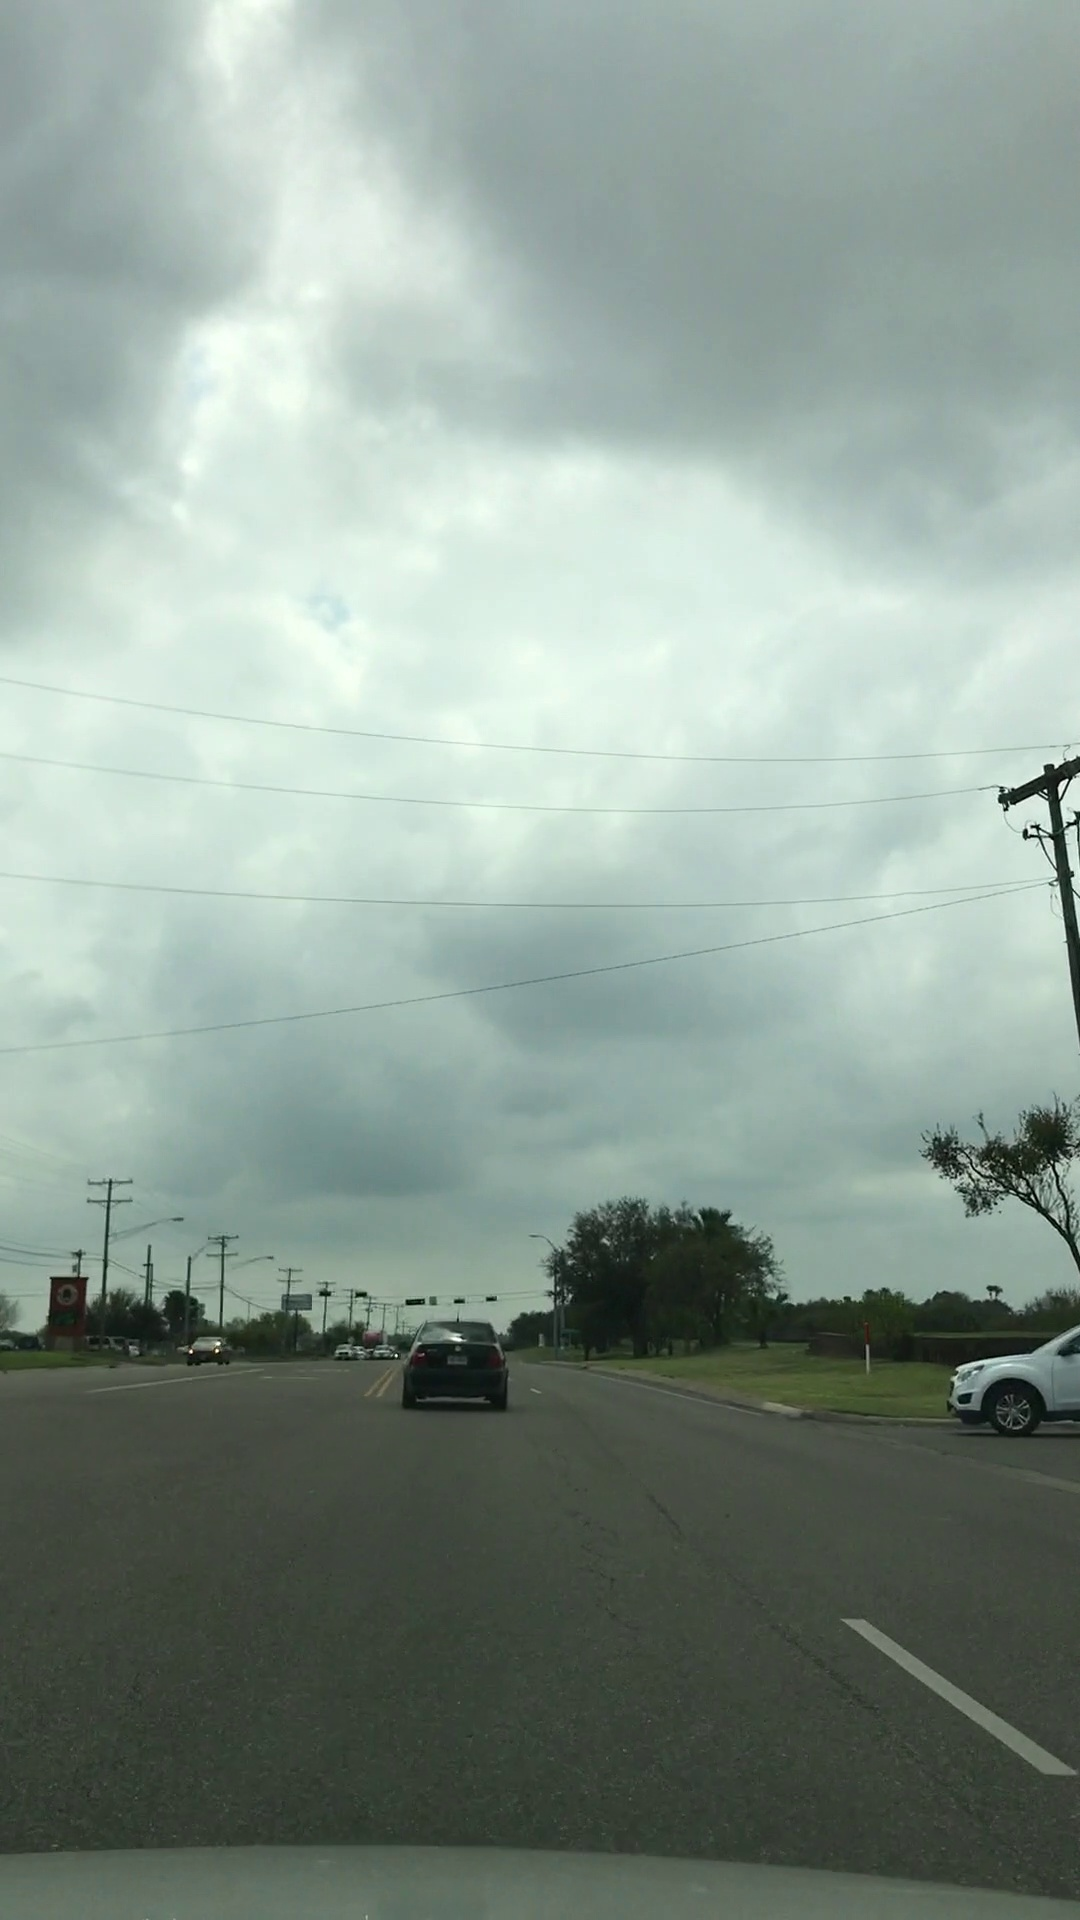crack: (661, 1509, 975, 1817), (556, 1495, 644, 1639)
